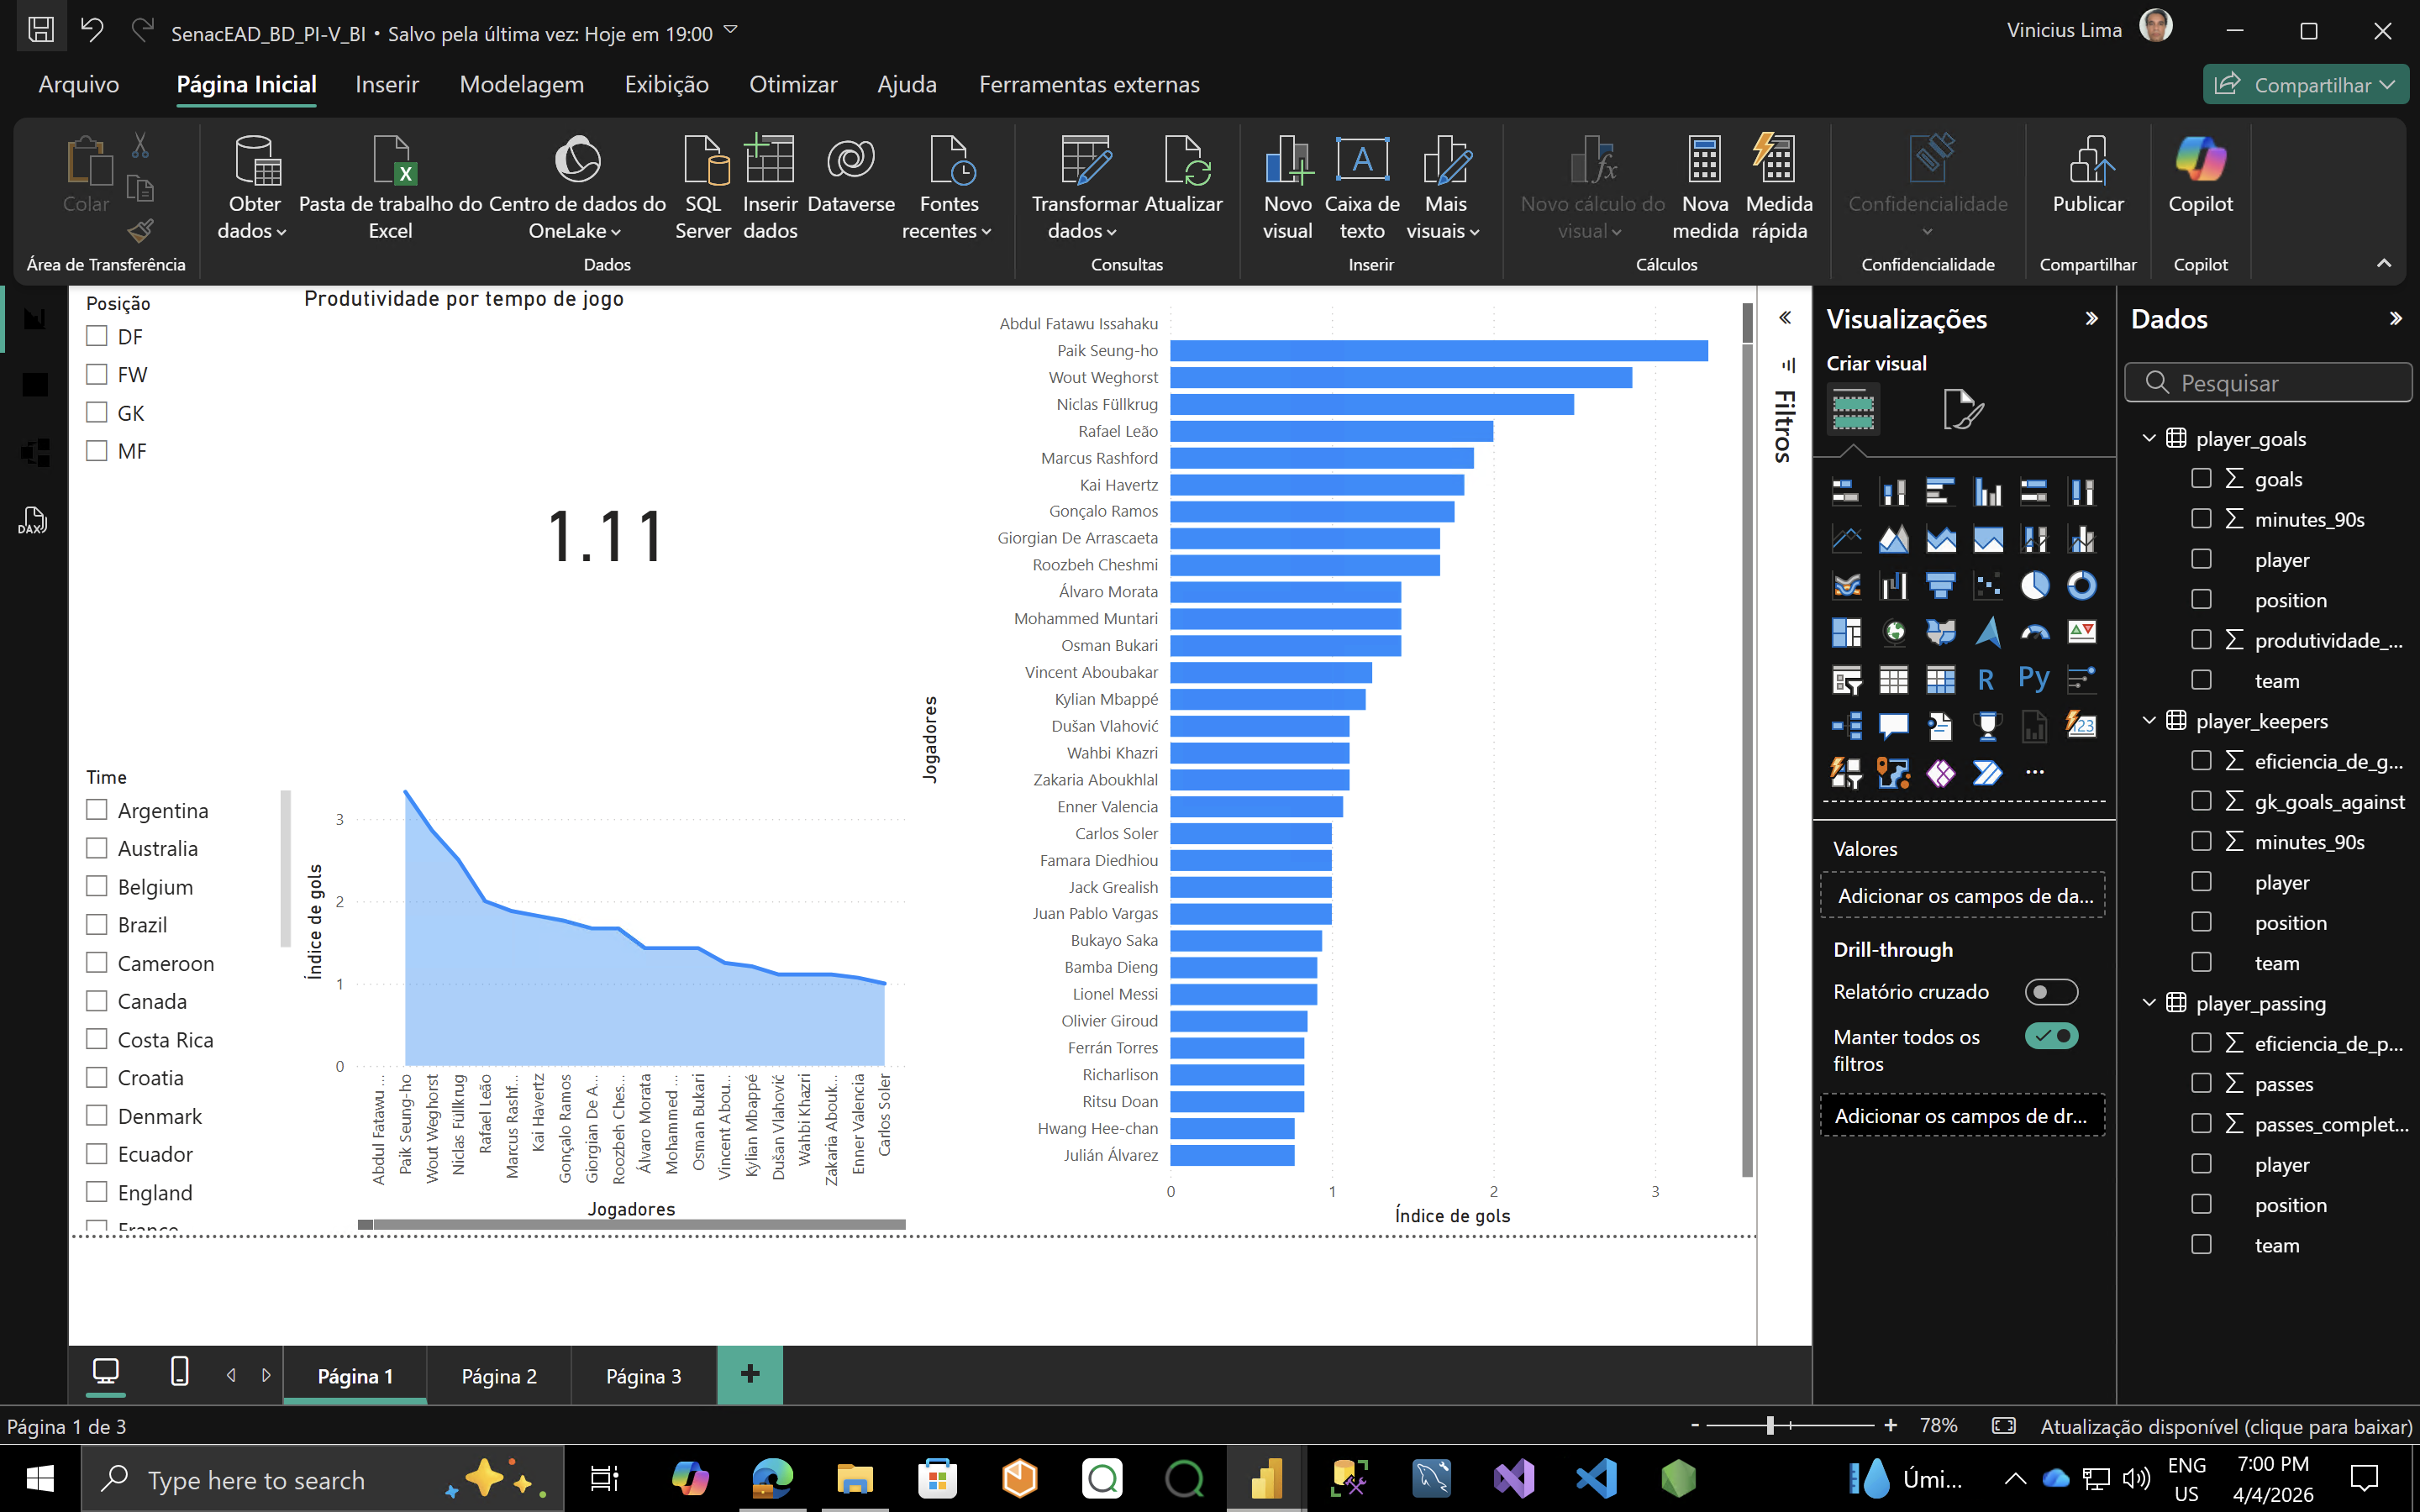

The dashboard page shown, as its layout file describes it:
{"tool":"powerbi","page":{"name":"Página 1","canvas":[1280,720],"ordinal":0},"visuals":[{"type":"clusteredBarChart","title":"Produtividade por tempo de jogo","fields":{"Category":["player_stats.player"],"Y":["Sum(player_stats.produtividade_por_tempo_de_jogo)"]},"box":[640,0,642.5,719],"z":0},{"type":"kpi","title":"Produtividade por tempo de jogo","fields":{"TrendLine":["player_stats.player"],"Indicator":["Sum(player_stats.produtividade_por_tempo_de_jogo)"]},"box":[173.4,0,467.9,359.5],"z":1000},{"type":"slicer","title":"Posição","fields":{"Values":["player_stats.position"]},"box":[0,0,173.4,359.5],"z":2000},{"type":"slicer","fields":{"Values":["player_stats.team"]},"box":[0,359.5,173.4,362.1],"z":3000},{"type":"stackedAreaChart","title":"Produtividade por tempo de jogo","fields":{"Category":["player_stats.player"],"Y":["Sum(player_stats.produtividade_por_tempo_de_jogo)"]},"box":[173.4,359.5,466.6,362.1],"z":4000}]}

Visuals, with their boxes on the page's 1280x720 design canvas (x1, y1, x2, y2). These are canvas units, not pixel positions in the 2420x1512 screenshot, which may show the page scaled, cropped or inside an application window:
"Produtividade por tempo de jogo" clusteredBarChart: (x1=640, y1=0, x2=1282, y2=719)
"Produtividade por tempo de jogo" kpi: (x1=173, y1=0, x2=641, y2=360)
"Posição" slicer: (x1=0, y1=0, x2=173, y2=360)
slicer - player_stats.team: (x1=0, y1=360, x2=173, y2=722)
"Produtividade por tempo de jogo" stackedAreaChart: (x1=173, y1=360, x2=640, y2=722)
